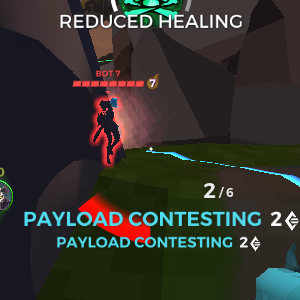model: (86, 93, 128, 173)
